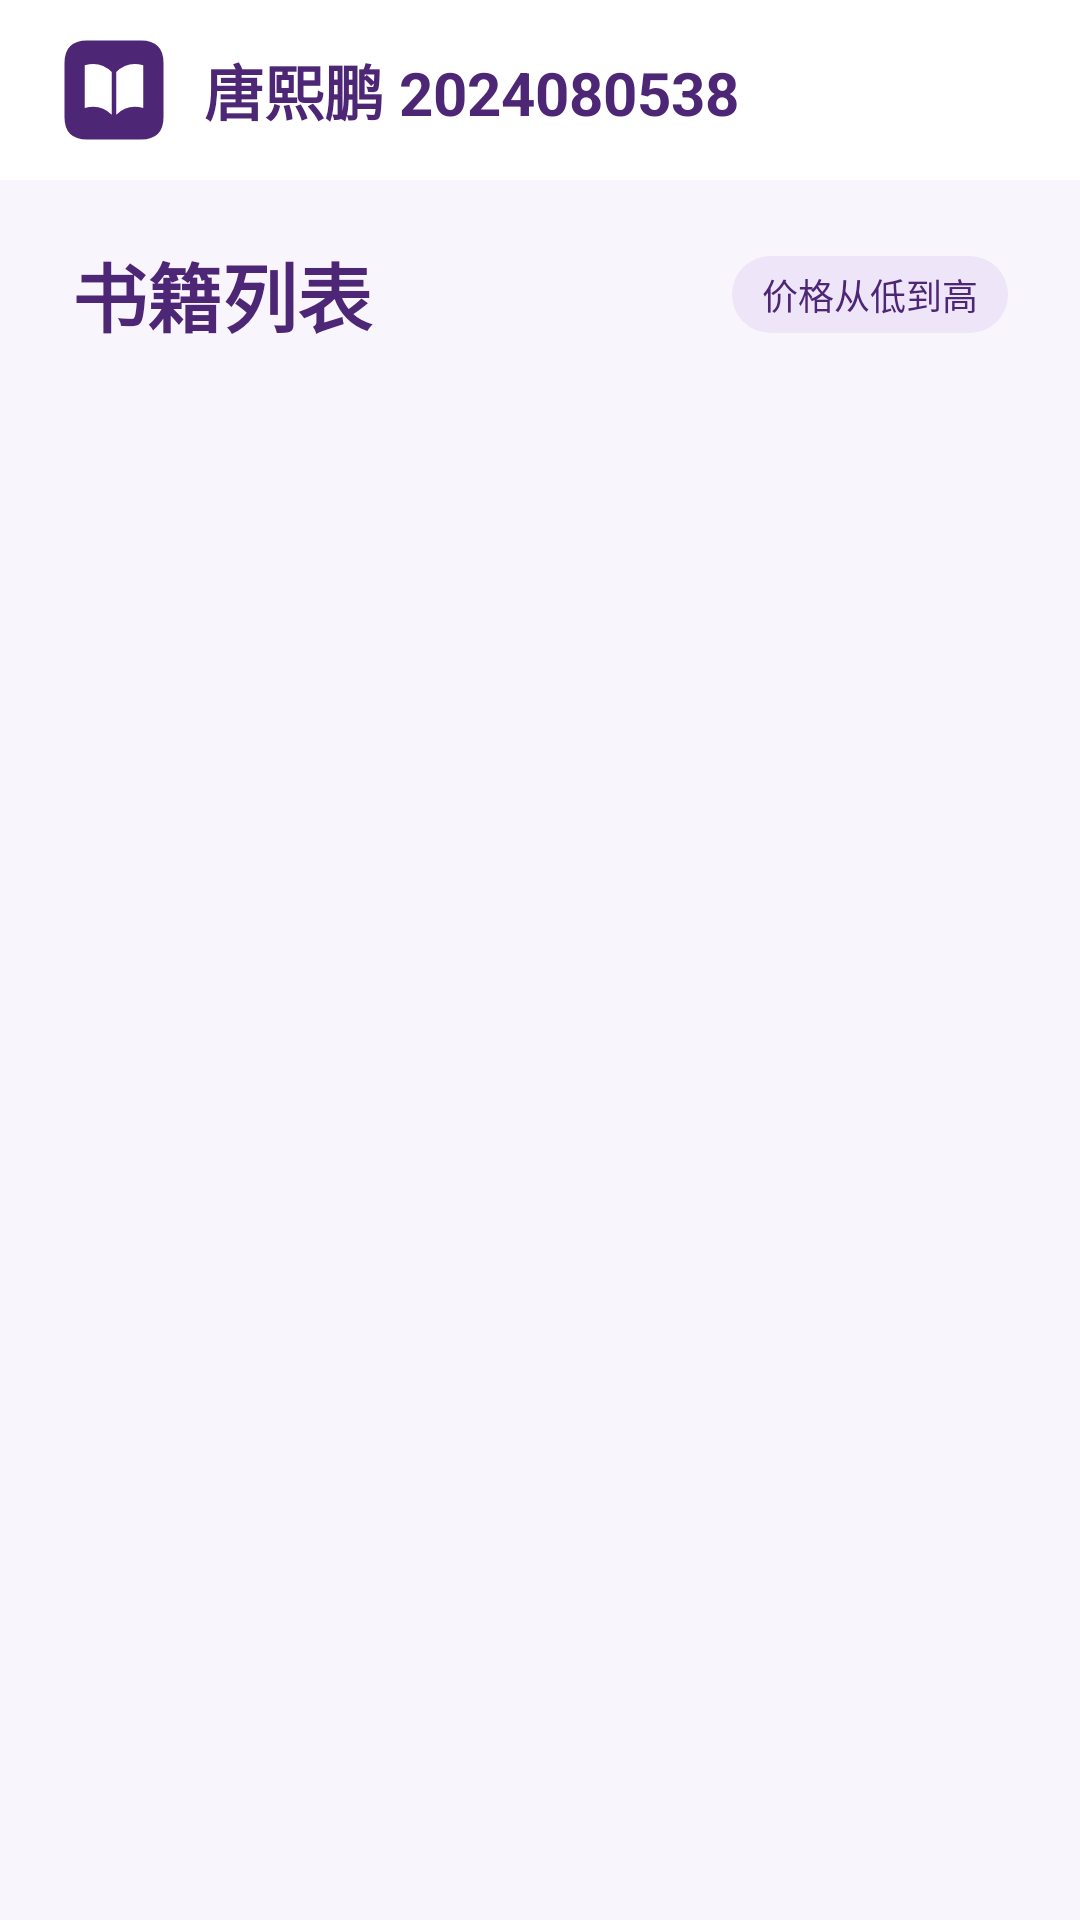

Icon bounding boxes for this 1080w x 1920h phone screenshot, format (x1, y1, x2, y2):
book manager: (64, 40, 164, 140)
